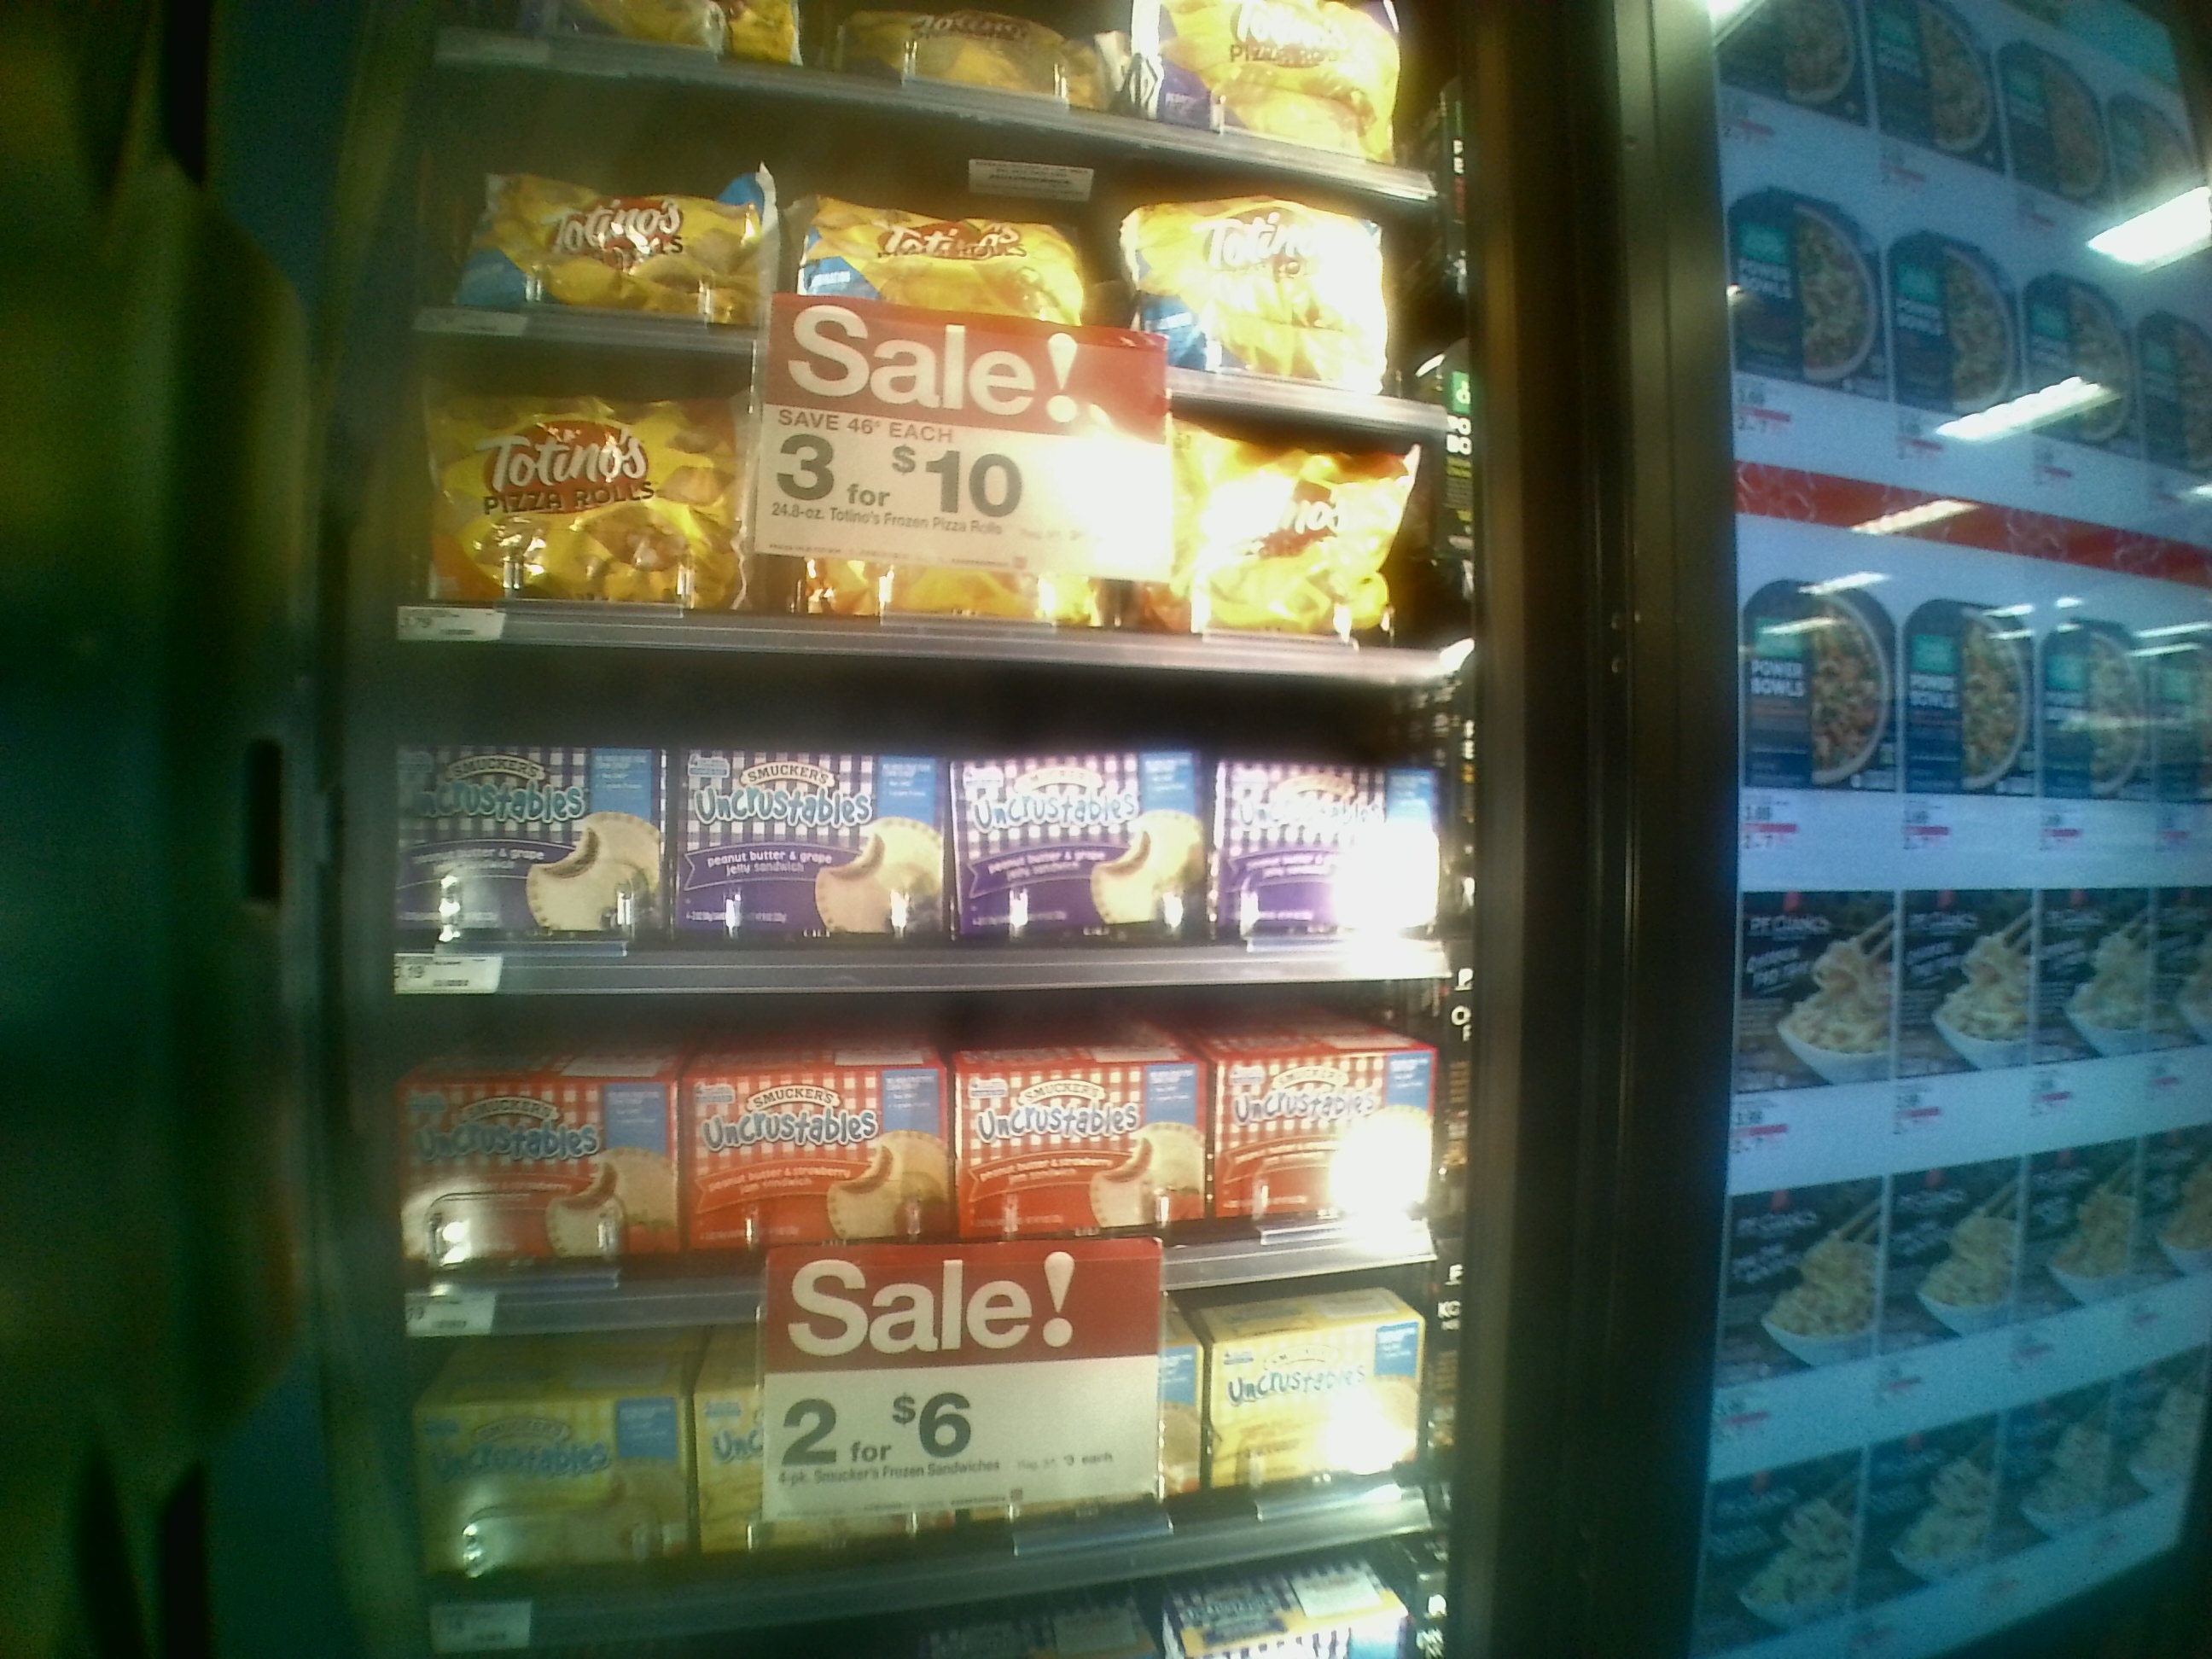shelf: (338, 319, 1475, 685), (324, 645, 1468, 988), (334, 986, 1454, 1295), (298, 1281, 1449, 1554)
